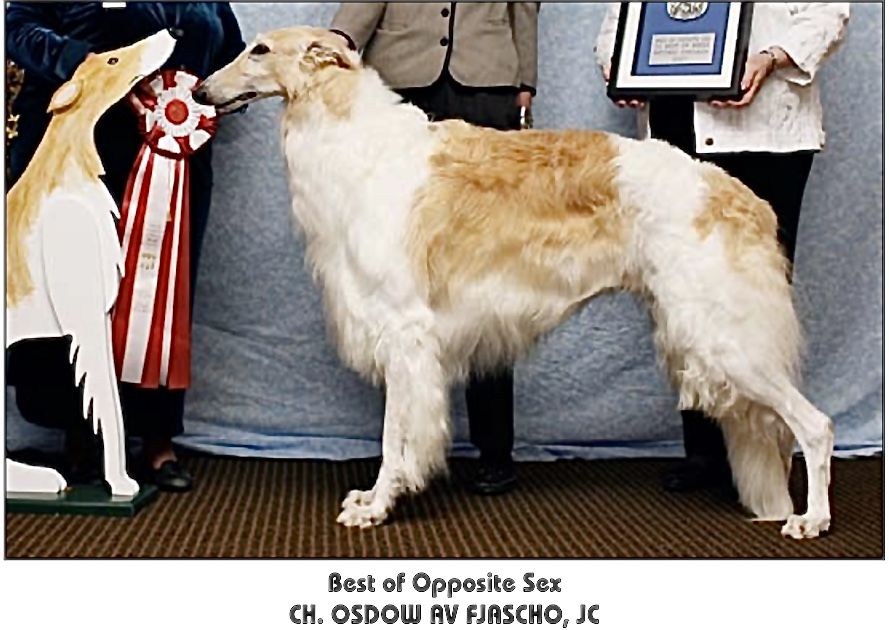borzoi: (183, 19, 839, 542)
